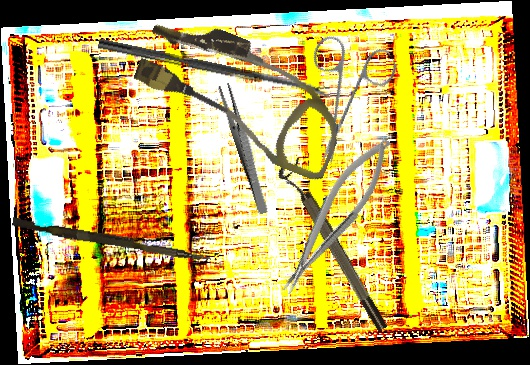Cannula: (123, 5, 360, 184)
Dressing Forceps: (216, 81, 273, 216)
Fixation Ring: (275, 157, 391, 338)
Iris Scissors: (272, 13, 423, 166)
Needle Holder: (265, 129, 405, 301)
Pusher: (11, 217, 213, 263)
Surgical Spoon: (97, 38, 331, 99)
